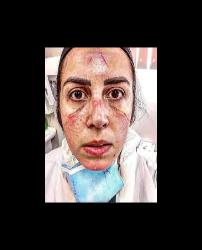mask_weared_incorrect: (63, 70, 133, 176)
